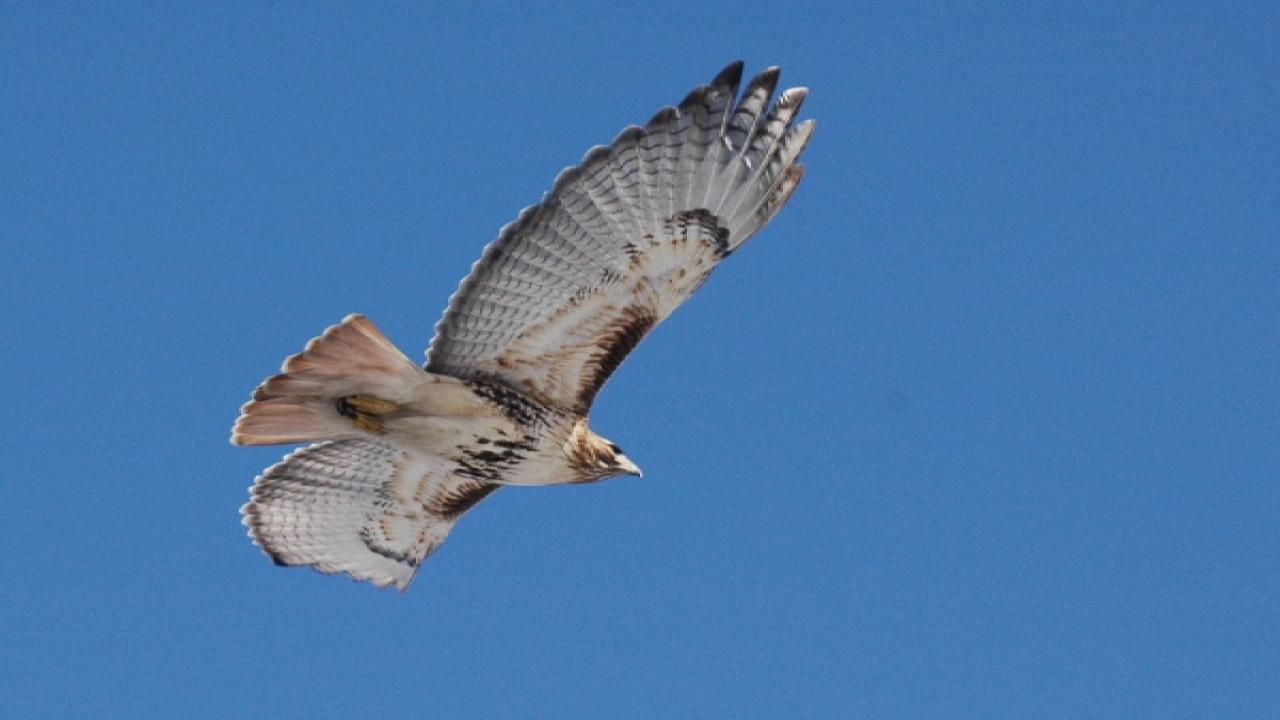Bird: (218, 53, 838, 602)
